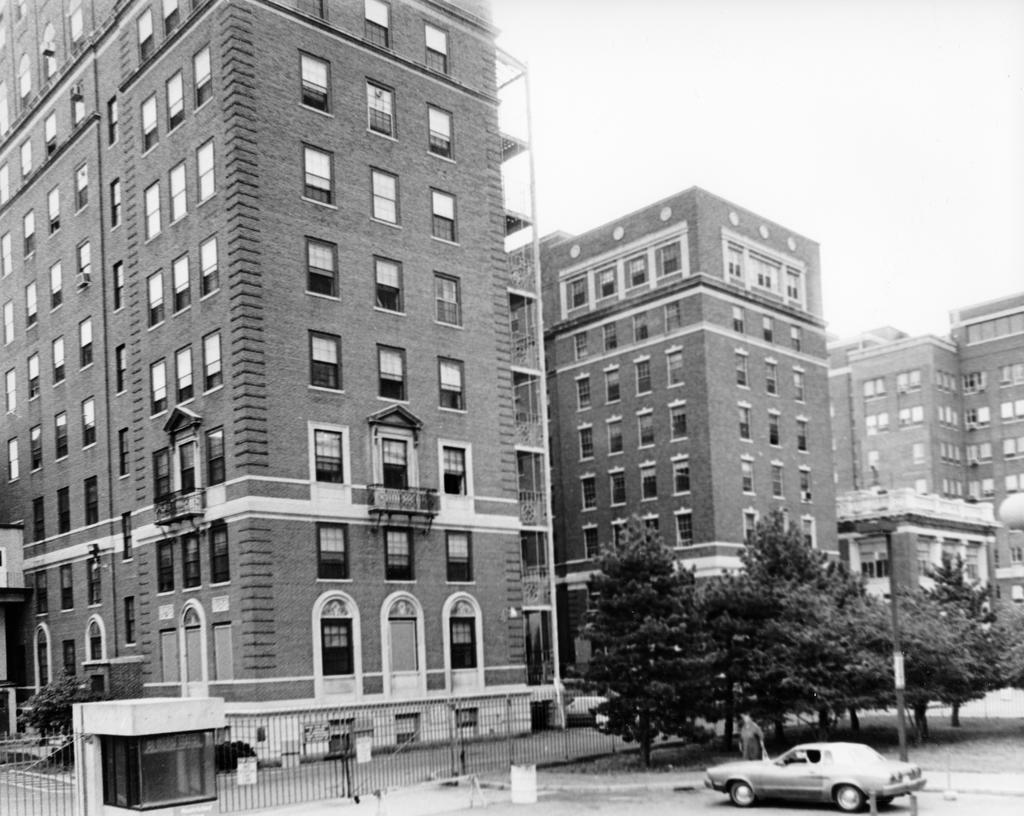Car: (674, 737, 933, 814)
